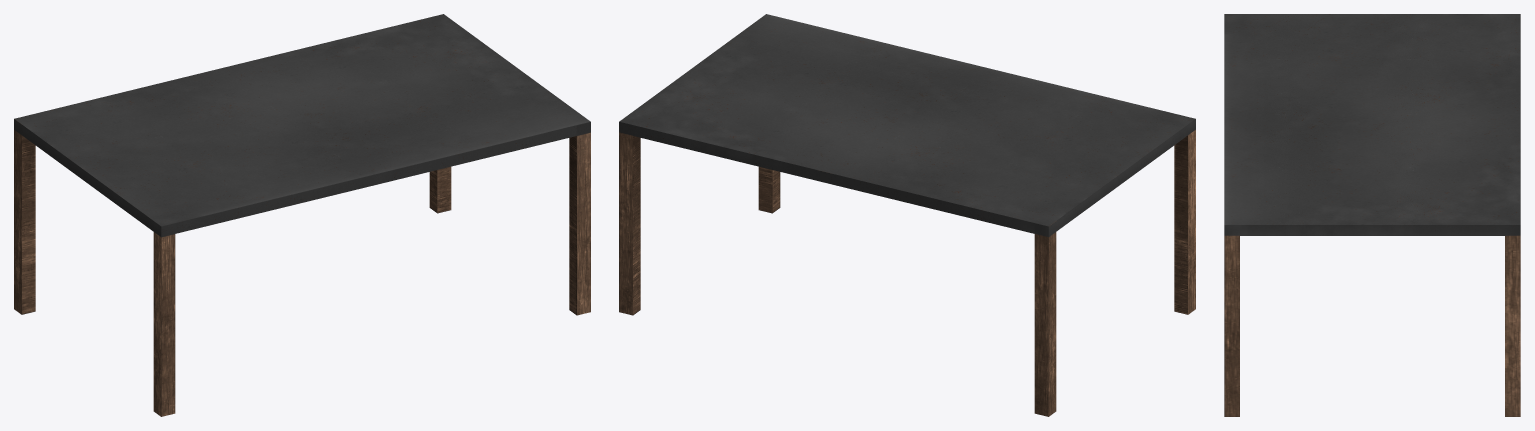
The model's file is Meja Alat.fbx.
The picture shows the model from 3 angles, left to right: view 1: azimuth 30°, elevation 25°; view 2: azimuth 150°, elevation 25°; view 3: azimuth 270°, elevation 25°; orthographic projection.
Visible parts, largest first — view 1: Cube.001; view 2: Cube.001; view 3: Cube.001.
Part boxes in pixels (x1=…): Cube.001: x1=14, y1=14, x2=590, y2=416; Cube.001: x1=619, y1=14, x2=1195, y2=416; Cube.001: x1=1224, y1=14, x2=1520, y2=416.
Size of the model in its own units: 195 by 82.64 by 116.
1 material, 1 textured.
